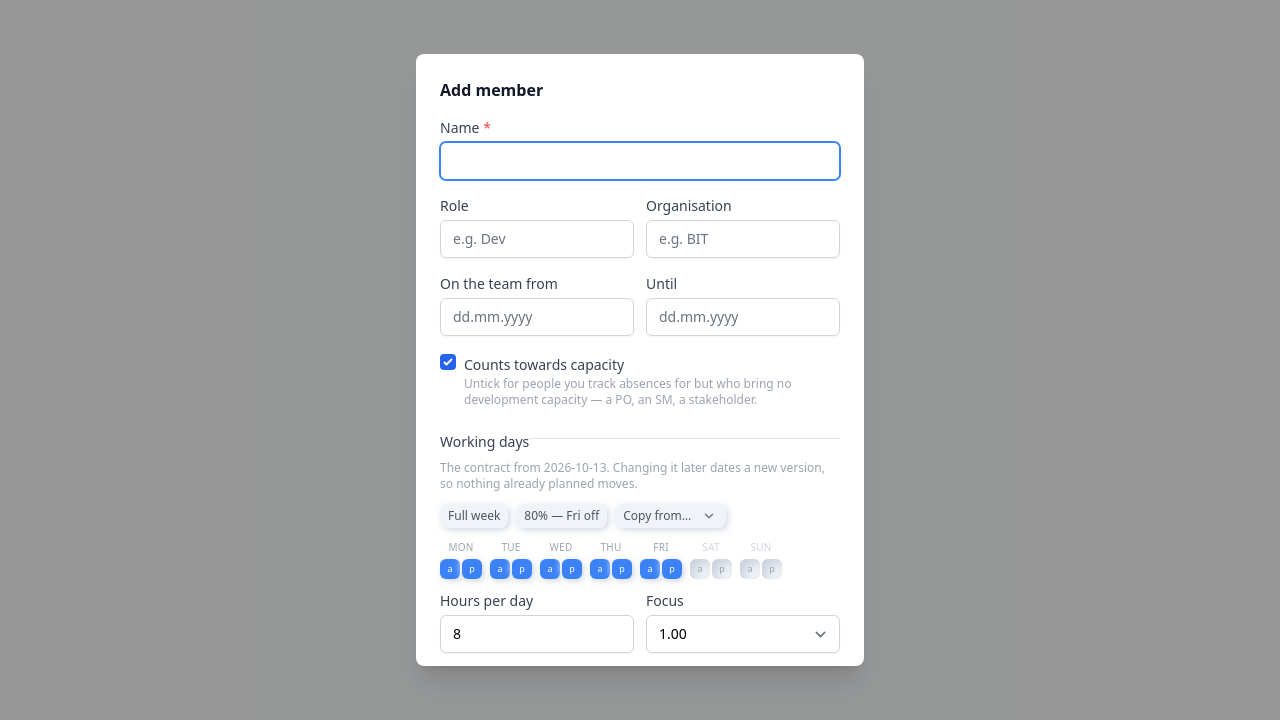
Test: AddMemberModal › explains a name the team already holds
The image size is (1280, 720).
Type "Katrin Hofstetter" into the field labelled "Name *". click: (640, 161)
box: [440,142,840,180]
(page scrolled)
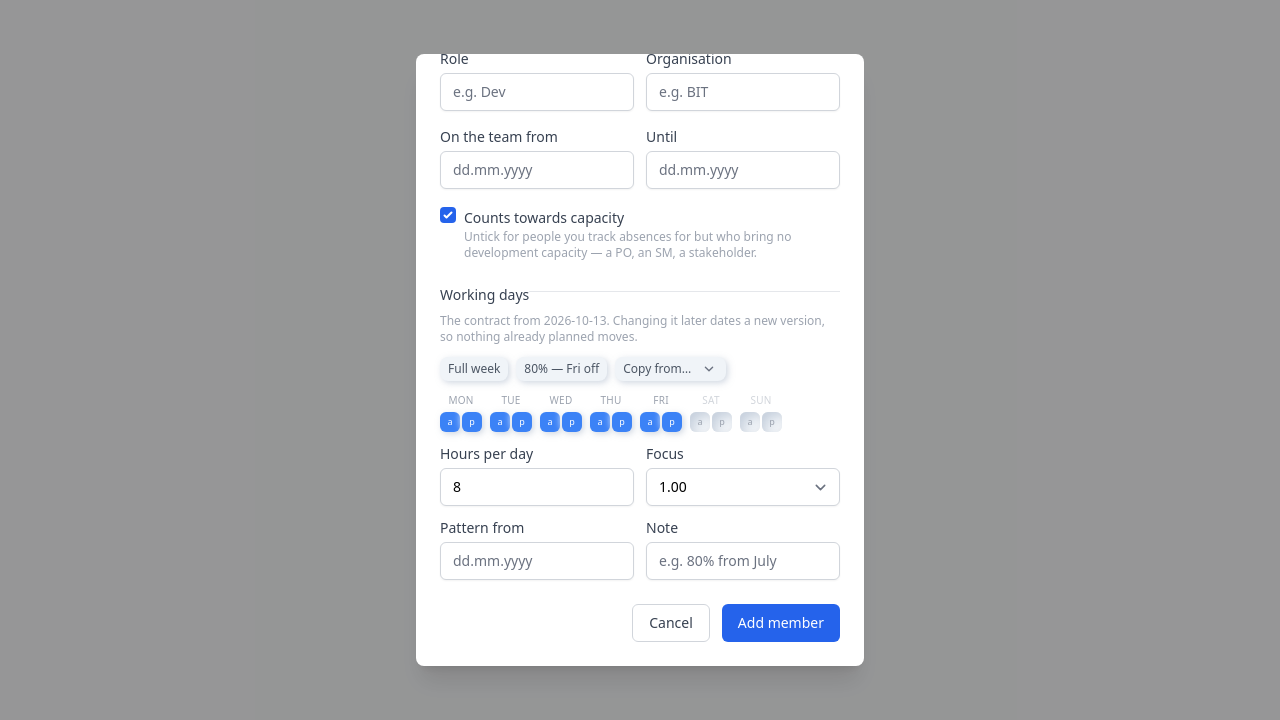
Click the button "Add member". click: (781, 623)
box: [722,604,840,642]
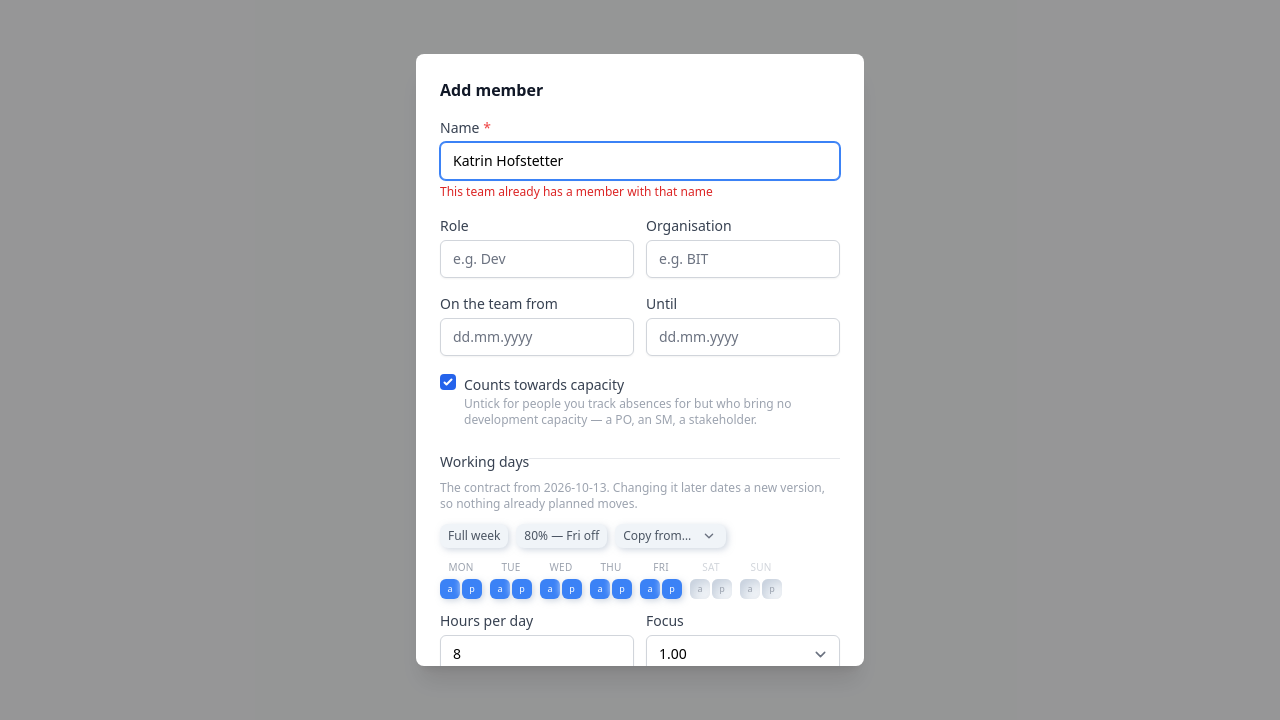
Result: the text "This team already has a member with that name" is shown at [440,183,713,200]
